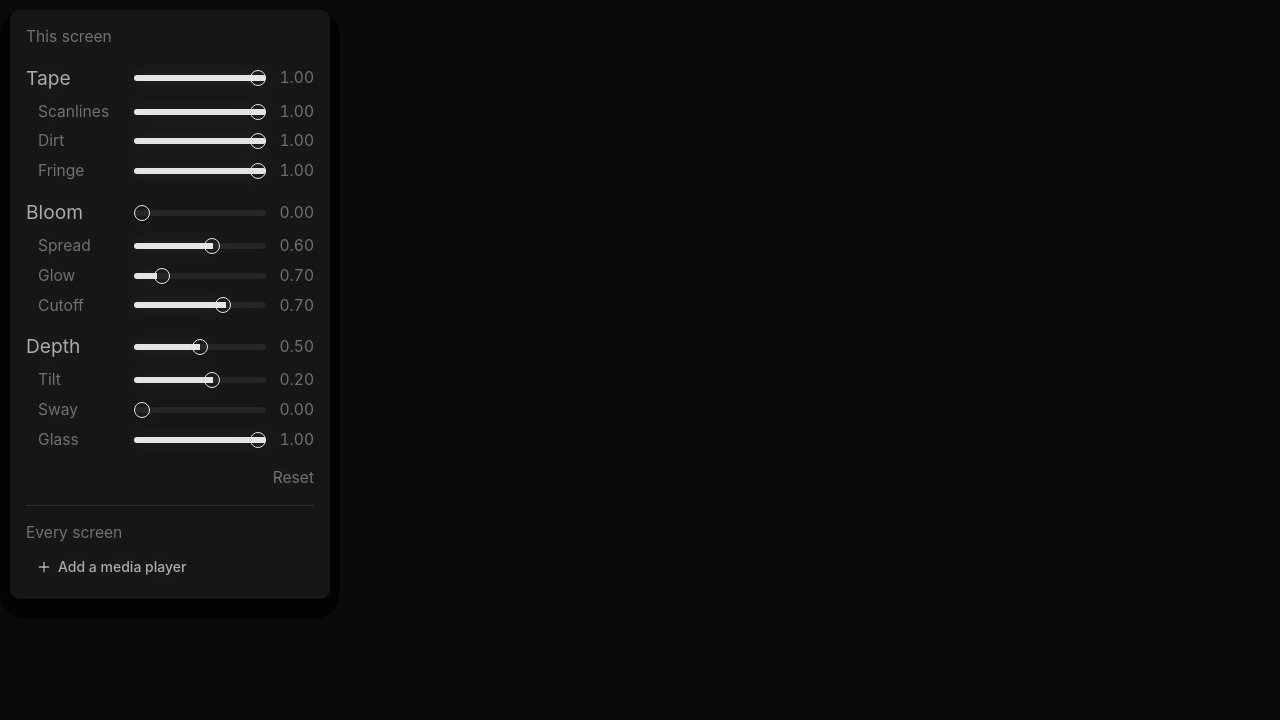
Test case: adding a player, which is for every screen › shows a full board's refusal as it came, and stays open
Click the button "Add a media player": {"x": 111, "y": 567} top-left (26, 551), bottom-right (196, 583)
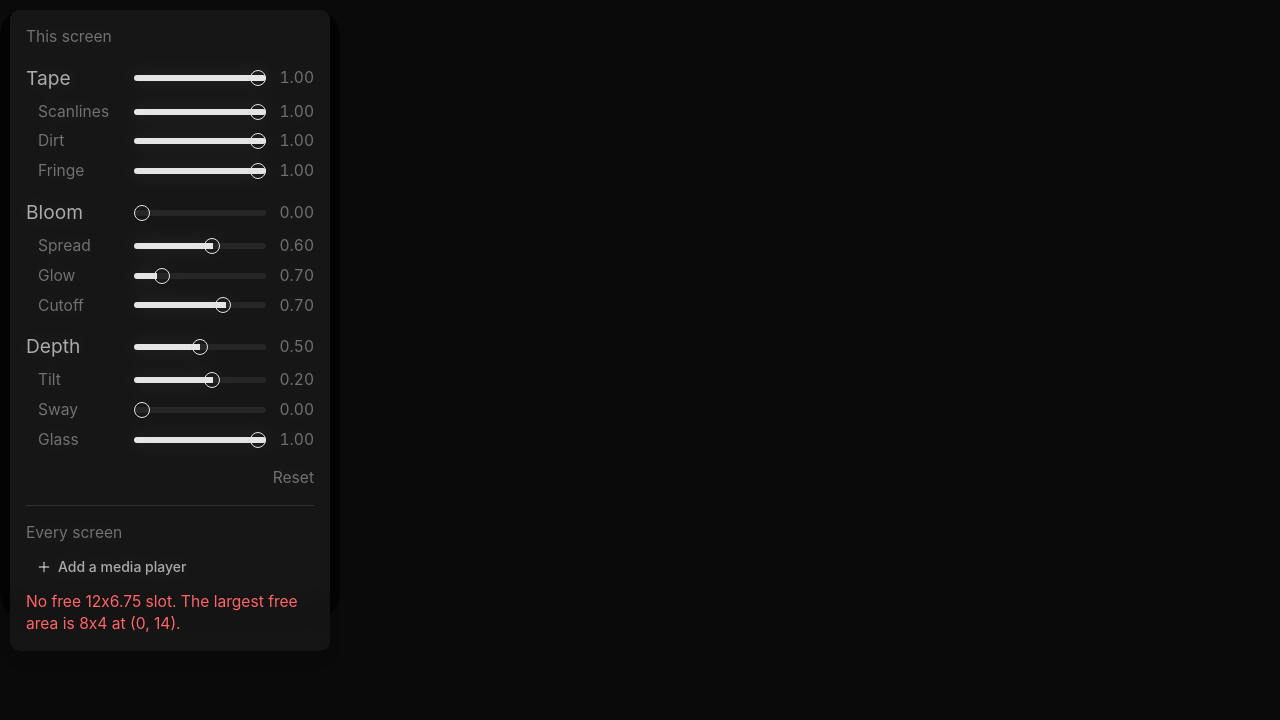
Expected: the message "No free 12x6.75 slot. The largest free area is 8x4 at (0, 14)." is shown, top-left (26, 591), bottom-right (314, 635)
